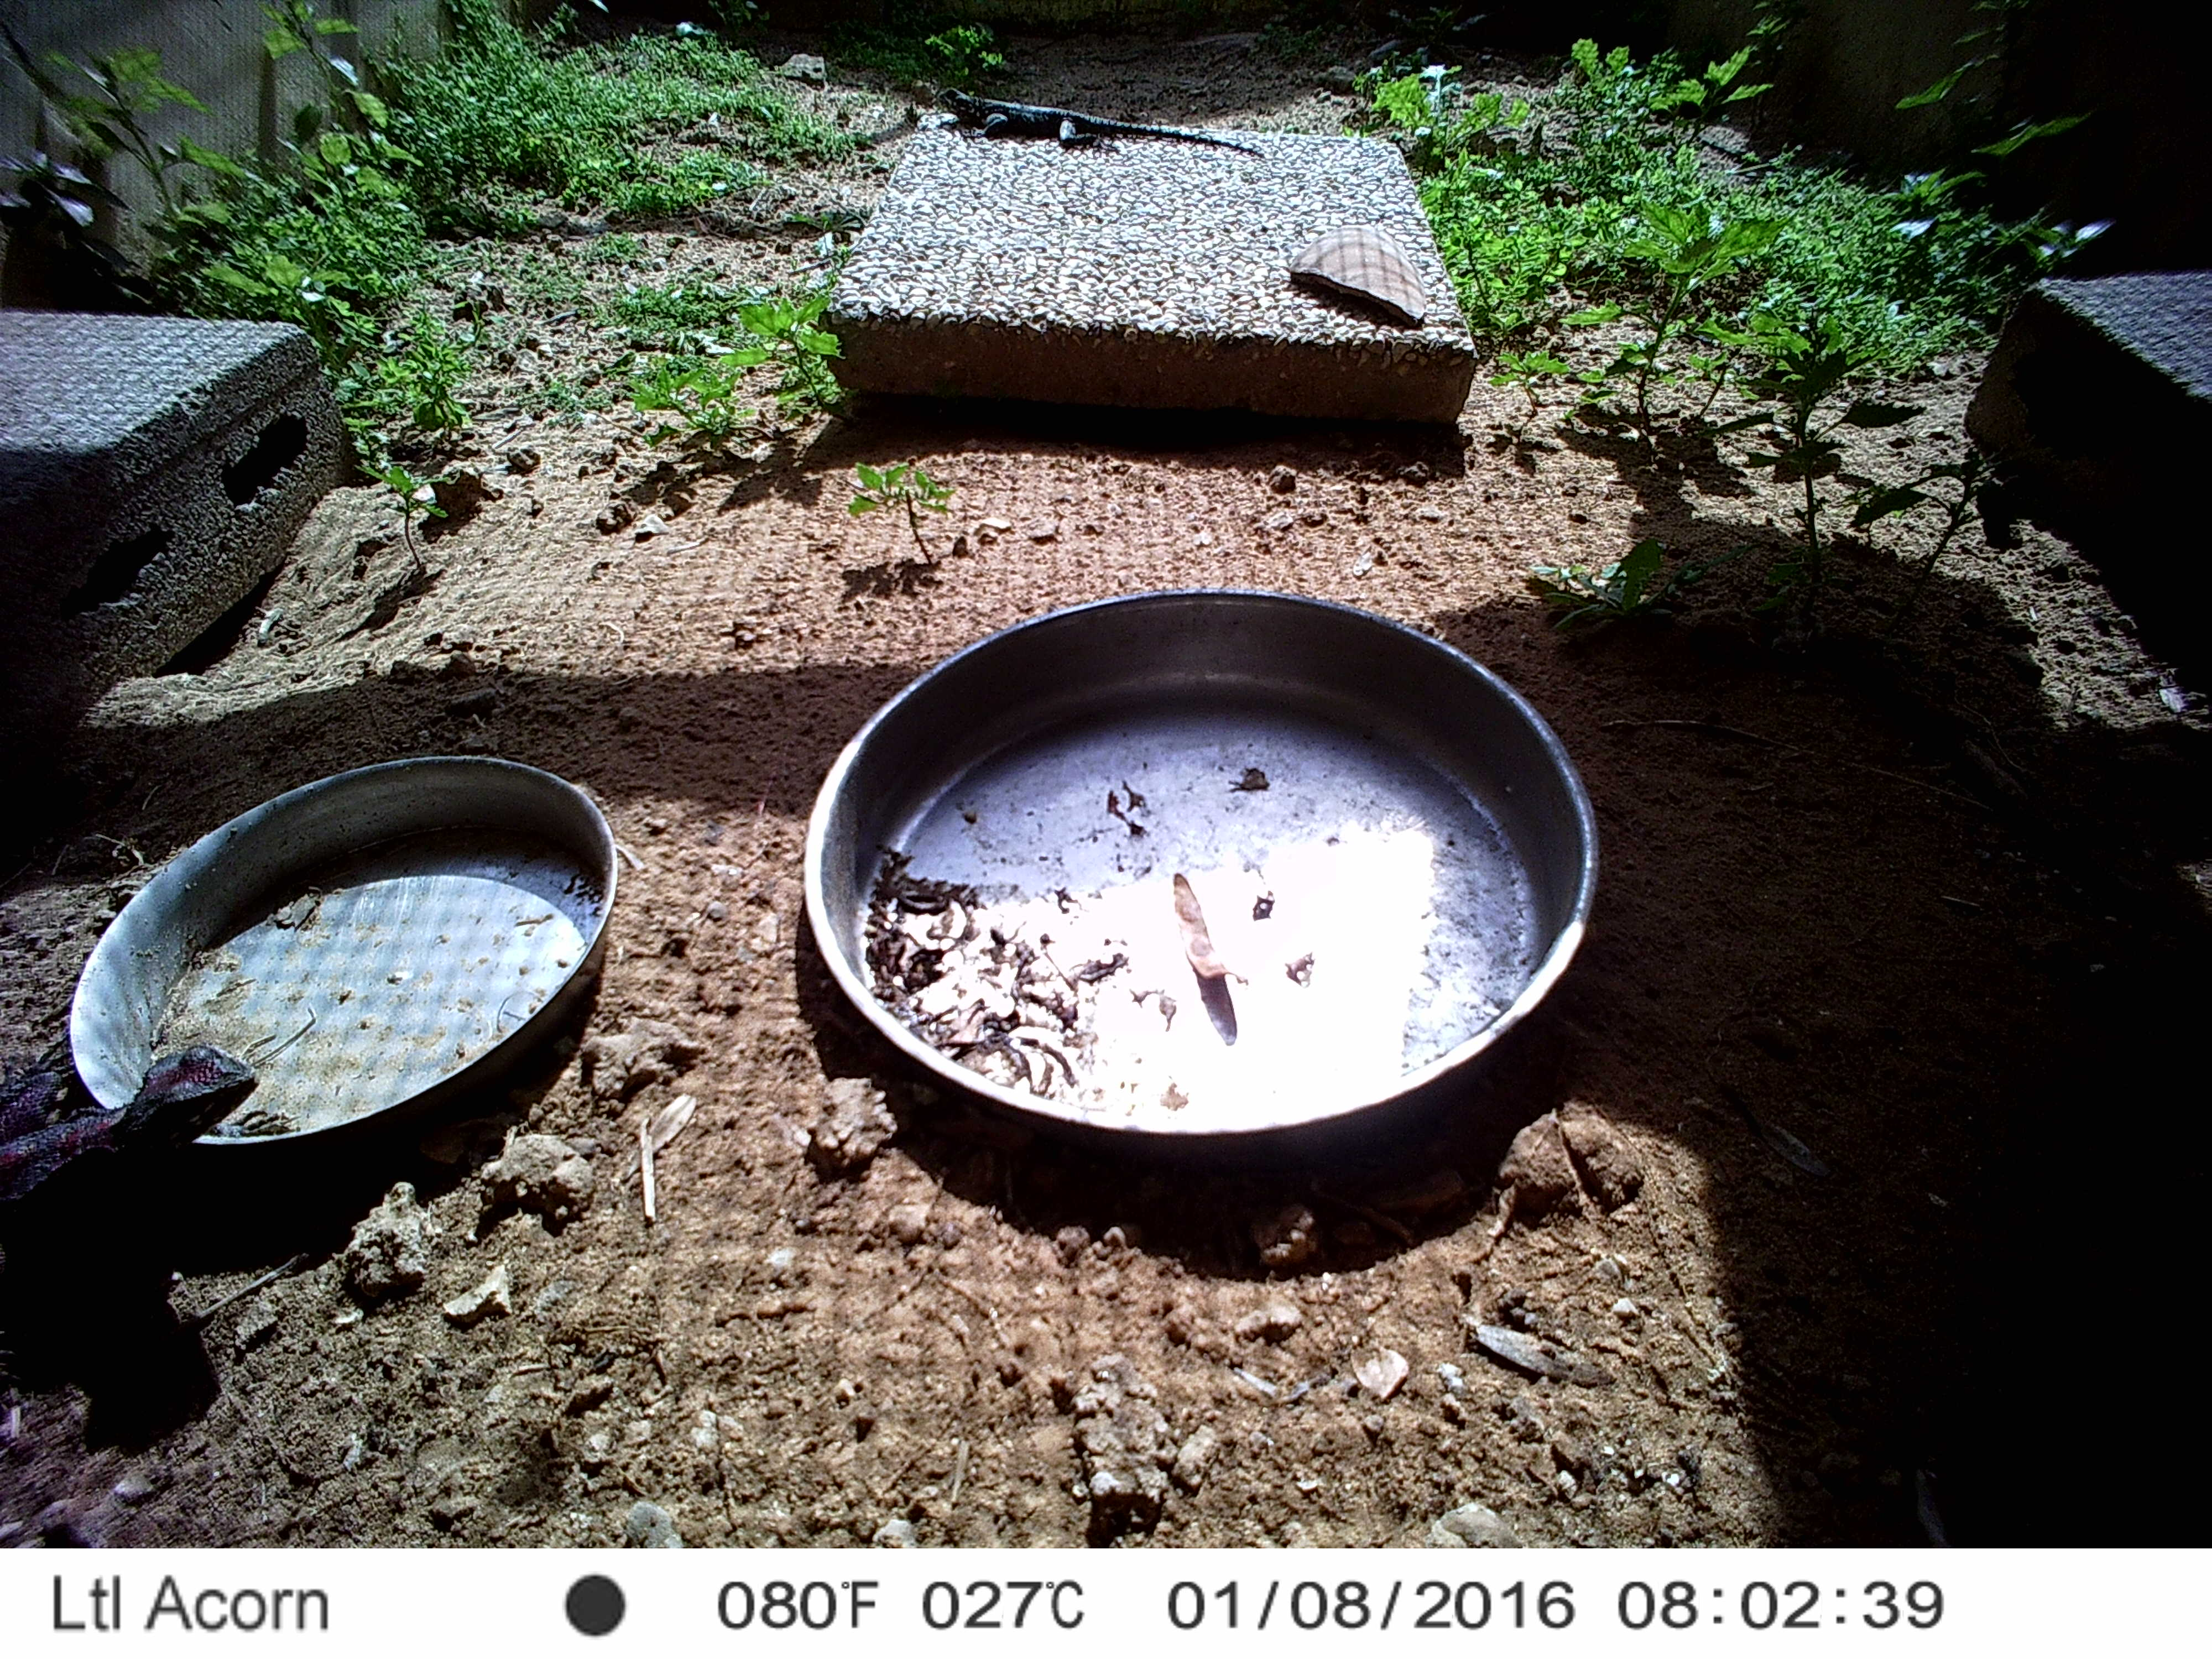lizard: (0, 1030, 268, 1262), (932, 80, 1271, 169)
